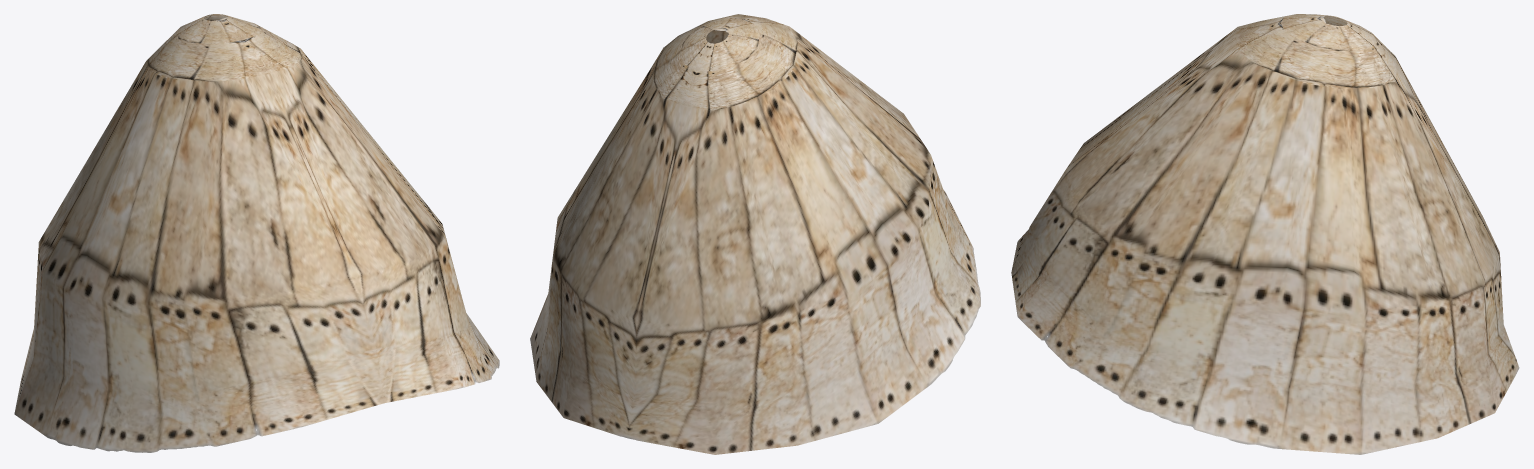
The model's file is boar_tusk_helmet_02.dae.
3 views of the same model, side by side, from view 1: azimuth 30°, elevation 25°; view 2: azimuth 150°, elevation 25°; view 3: azimuth 270°, elevation 25° (orthographic). The views are drawn at different scales.
Parts seen in each view (by area): view 1: boar_tusk_helmet.001; view 2: boar_tusk_helmet.001; view 3: boar_tusk_helmet.001.
Boxes of the visible parts, x1=… form: boar_tusk_helmet.001: x1=14, y1=14, x2=499, y2=452; boar_tusk_helmet.001: x1=530, y1=14, x2=980, y2=454; boar_tusk_helmet.001: x1=1011, y1=14, x2=1519, y2=454.
Size of the model in its own units: 0.4698 by 0.5332 by 0.4131.
1 material, 1 textured.
